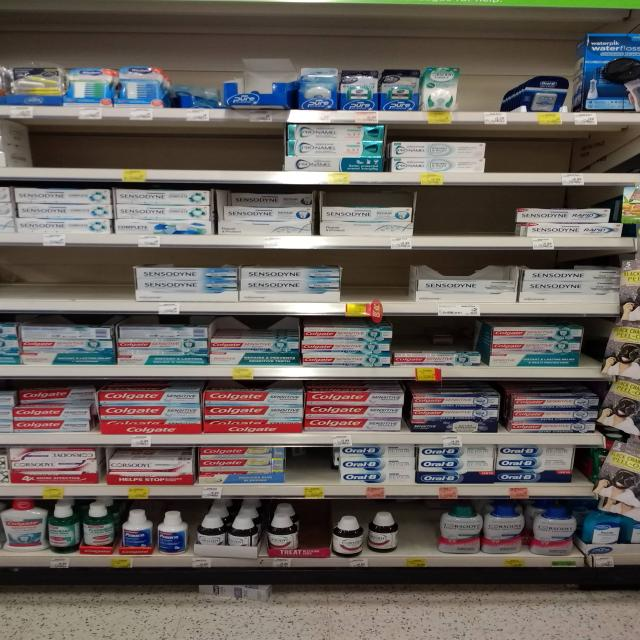unorganised: (225, 59, 300, 110), (518, 205, 610, 225), (231, 190, 313, 207)
